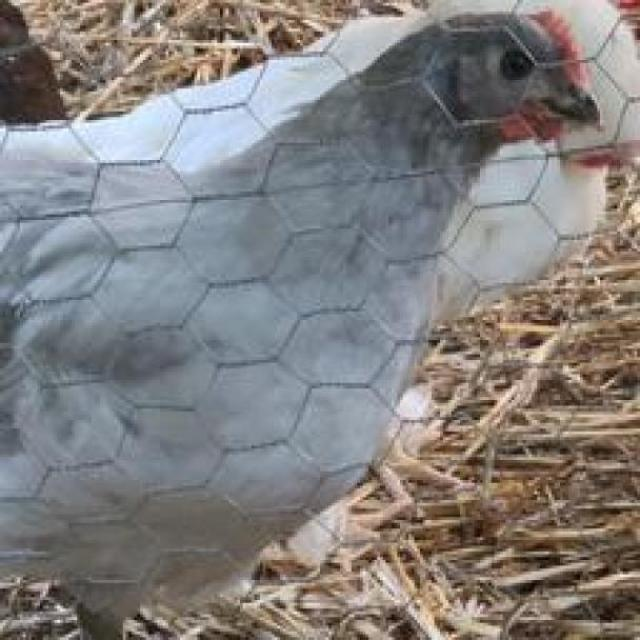Chicken: (9, 5, 615, 596)
